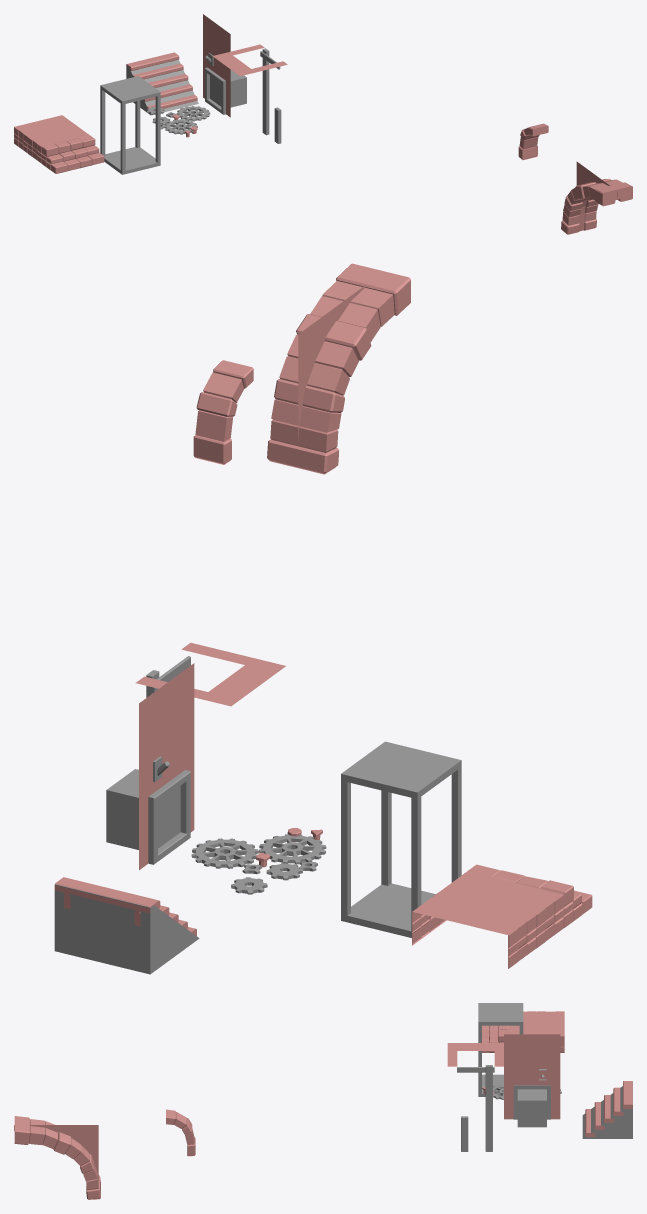
File: MechanicalPk1.fbx
3 views of the same model, one above another, from view 1: azimuth 30°, elevation 25°; view 2: azimuth 150°, elevation 25°; view 3: azimuth 270°, elevation 25° (orthographic). The views are drawn at different scales.
Visible parts, largest first — view 1: Evelator, LargeHalfArch, StoneStairSmall1, WoodStairSmall, StandardWhole2_5, FloorTile, StairWireFrame4, FloorTileHole, SmallHalfArch, Strut2_5, ElvatorBox, GremlinsServiceElevator (+3 smaller); view 2: LargeHalfArch, Evelator, StairWireFrame4, StandardWhole2_5, FloorTile, SmallHalfArch, FloorTileHole, StairFoundation, ElvatorBox, GremlinsServiceElevator, WoodStairSmall, GatWayWall (+3 smaller); view 3: StandardWhole2_5, LargeHalfArch, Evelator, StairWireFrame4, ElvatorBox, WoodStairSmall, FloorTile, GatWayWall, FloorTileHole, Strut2_5, SmallHalfArch, StoneStairSmall1 (+1 smaller).
Part boxes in pixels (<box>): Evelator: <box>100,76,160,174</box>; LargeHalfArch: <box>561,178,632,234</box>; StoneStairSmall1: <box>41,135,104,173</box>; WoodStairSmall: <box>127,52,197,110</box>; StandardWhole2_5: <box>203,14,230,117</box>; FloorTile: <box>14,115,89,146</box>; StairWireFrame4: <box>126,59,198,115</box>; FloorTileHole: <box>213,44,287,76</box>; SmallHalfArch: <box>518,123,548,160</box>; Strut2_5: <box>262,48,269,135</box>; ElvatorBox: <box>230,70,246,107</box>; GremlinsServiceElevator: <box>205,67,225,114</box>; LargeHalfArch: <box>267,263,410,474</box>; Evelator: <box>341,741,461,937</box>; StairWireFrame4: <box>54,884,199,974</box>; StandardWhole2_5: <box>139,663,194,870</box>; FloorTile: <box>412,871,562,934</box>; SmallHalfArch: <box>193,360,253,464</box>; FloorTileHole: <box>135,642,285,706</box>; StairFoundation: <box>412,873,563,968</box>; ElvatorBox: <box>106,769,138,849</box>; GremlinsServiceElevator: <box>148,770,190,864</box>; WoodStairSmall: <box>54,877,196,935</box>; GatWayWall: <box>298,285,365,440</box>; StandardWhole2_5: <box>504,1034,560,1119</box>; LargeHalfArch: <box>14,1116,100,1199</box>; Evelator: <box>478,1003,523,1096</box>; StairWireFrame4: <box>582,1081,632,1138</box>; ElvatorBox: <box>517,1089,546,1127</box>; WoodStairSmall: <box>585,1081,632,1136</box>; FloorTile: <box>508,1011,564,1035</box>; GatWayWall: <box>14,1125,98,1179</box>; FloorTileHole: <box>447,1043,503,1066</box>; Strut2_5: <box>485,1065,492,1151</box>; SmallHalfArch: <box>166,1109,195,1156</box>; StoneStairSmall1: <box>482,1025,508,1052</box>.
Bounding box in the file's own units: 10.94 × 3.05 × 16.47.
